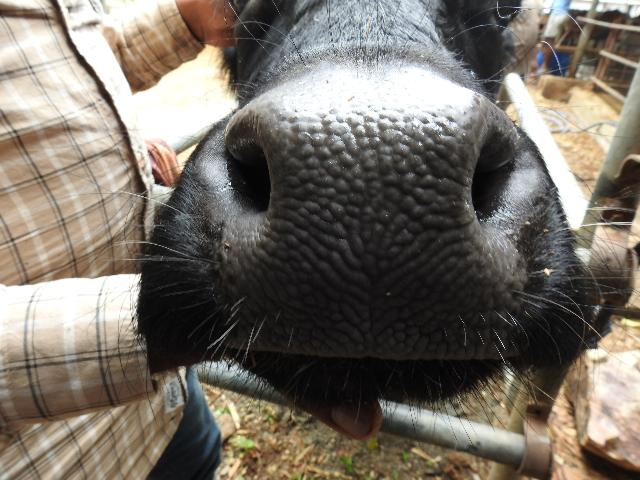Muzzle: (274, 98, 472, 346)
